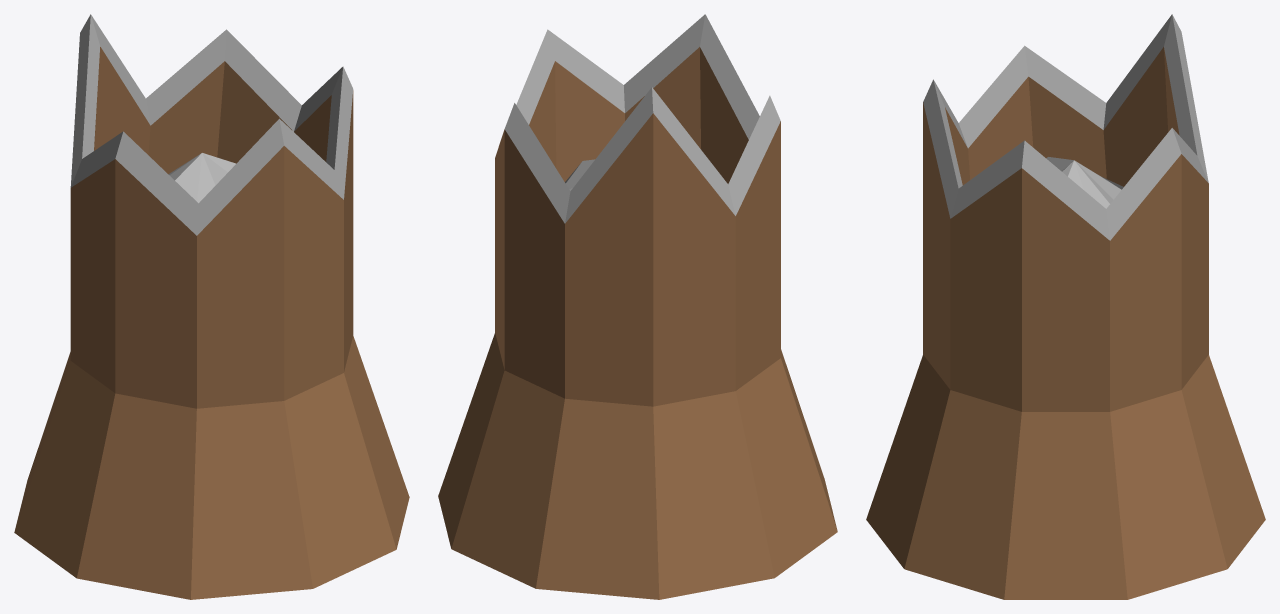
File: Treestumb_2 Winter.fbx
3 views of the same model, side by side, from view 1: azimuth 30°, elevation 25°; view 2: azimuth 150°, elevation 25°; view 3: azimuth 270°, elevation 25° (orthographic). The views are drawn at different scales.
Visible parts, largest first — view 1: Treestumb2Winter_mesh; view 2: Treestumb2Winter_mesh; view 3: Treestumb2Winter_mesh.
Part boxes in pixels (x1=…): Treestumb2Winter_mesh: x1=14, y1=14, x2=409, y2=599; Treestumb2Winter_mesh: x1=438, y1=14, x2=837, y2=599; Treestumb2Winter_mesh: x1=866, y1=14, x2=1265, y2=599.
Size of the model in its own units: 74.93 by 103 by 78.78.
